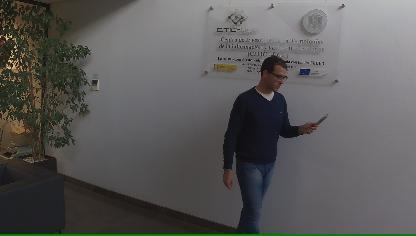knife: (306, 109, 330, 131)
